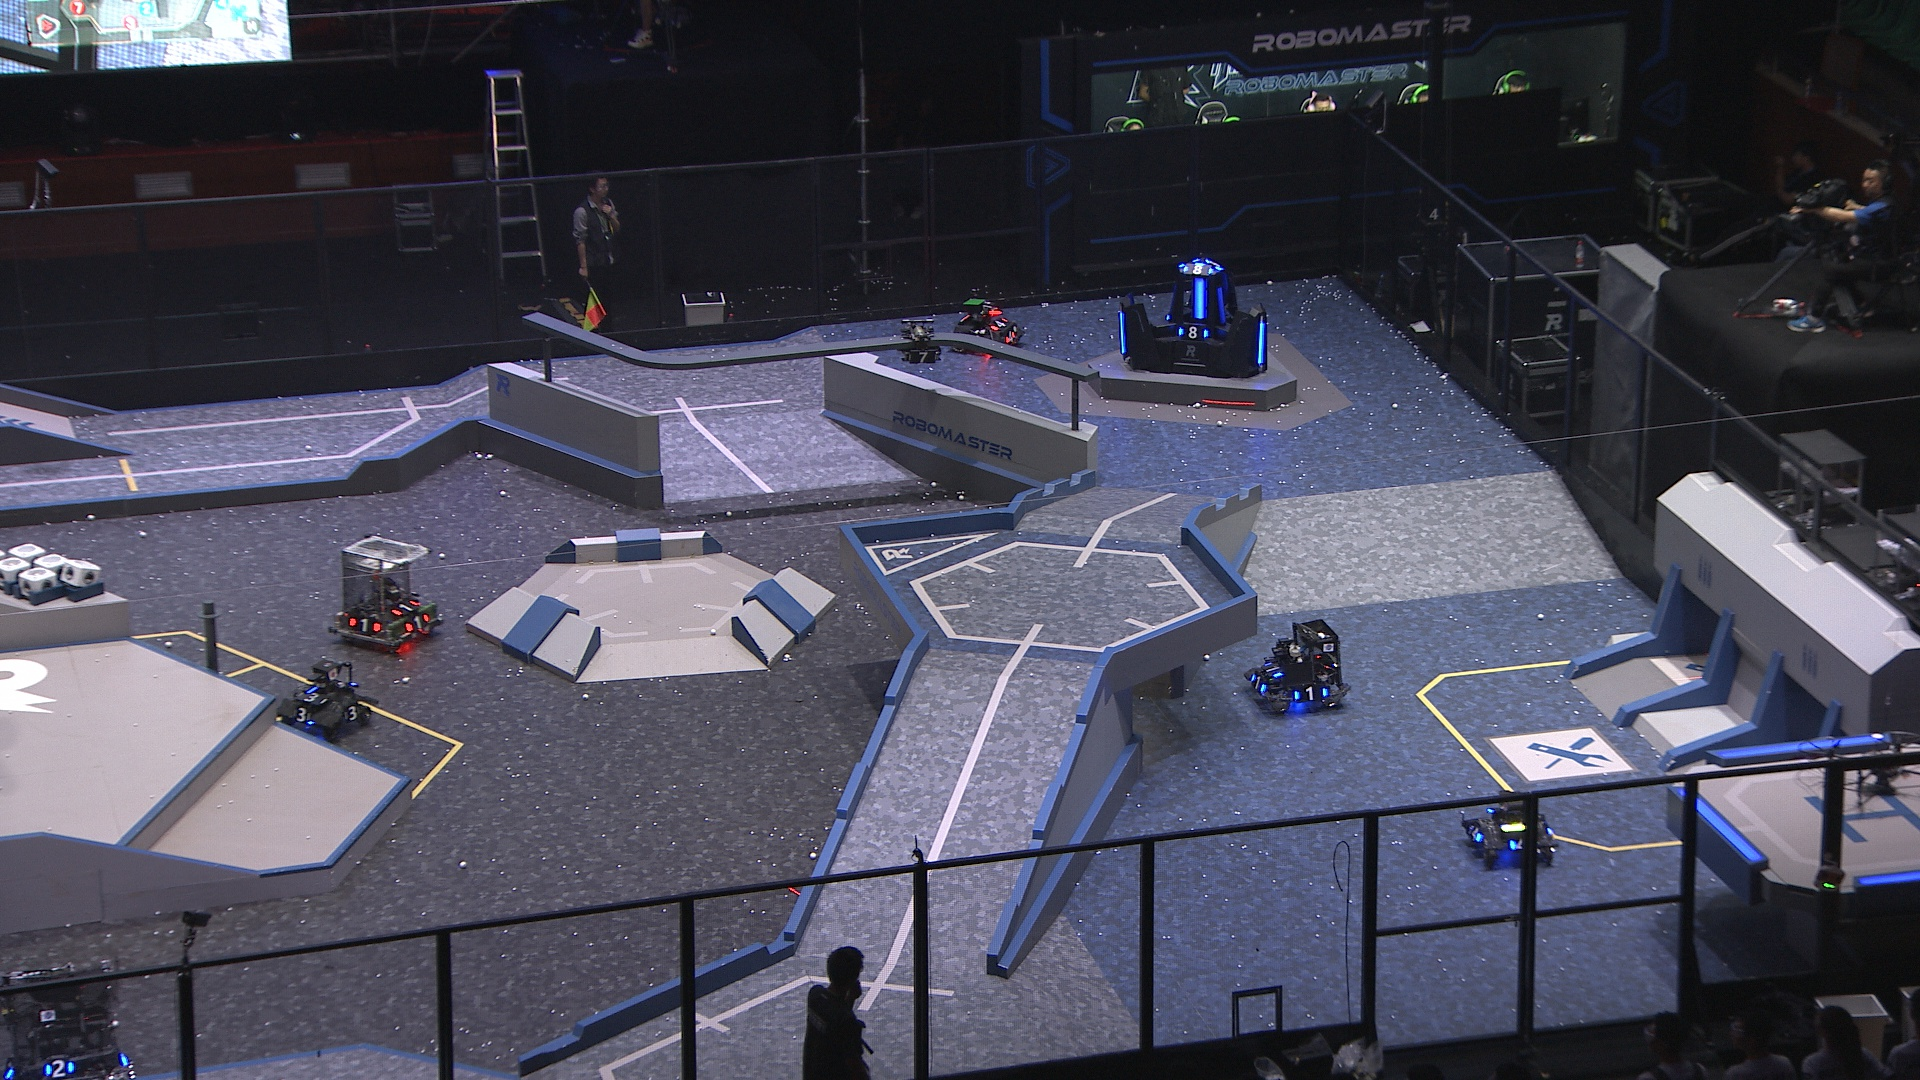armor: (1192, 277, 1211, 320), (44, 1058, 78, 1077), (1254, 322, 1269, 367), (345, 616, 382, 633), (291, 688, 328, 705), (401, 612, 433, 632), (389, 597, 419, 617), (905, 348, 939, 365), (1292, 684, 1329, 700), (1178, 324, 1211, 342), (1117, 311, 1130, 353), (1215, 286, 1228, 323), (1182, 262, 1215, 277), (1262, 659, 1284, 680), (1247, 674, 1271, 694), (989, 314, 1011, 334), (343, 703, 361, 723), (1466, 825, 1485, 845), (290, 707, 313, 723), (1509, 836, 1524, 851), (1002, 328, 1015, 344)
base: (1116, 255, 1269, 378)
car: (332, 531, 444, 651), (1244, 618, 1352, 717), (273, 655, 377, 740), (1460, 789, 1560, 868), (949, 297, 1026, 357)
watcher: (898, 316, 944, 367)
